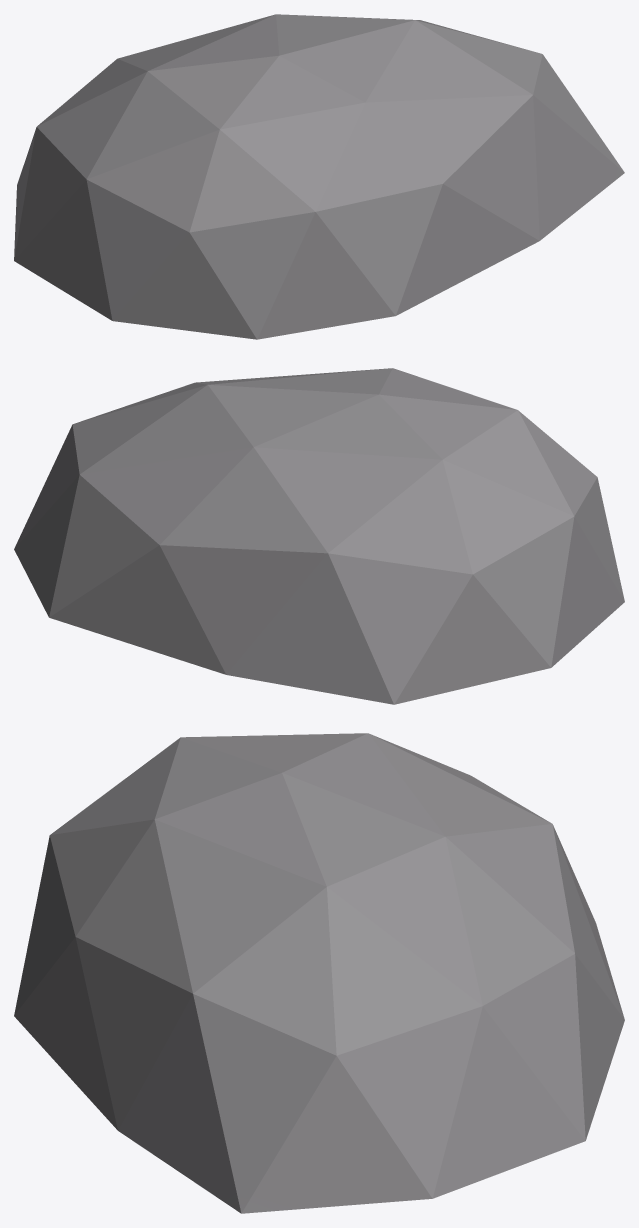
Rendered from Rock_Round_s_02.fbx.
3 renders of one model, top to bottom at view 1: azimuth 30°, elevation 25°; view 2: azimuth 150°, elevation 25°; view 3: azimuth 270°, elevation 25°, orthographic. The views are drawn at different scales.
Visible parts, largest first — view 1: Rock_Round_s_02; view 2: Rock_Round_s_02; view 3: Rock_Round_s_02.
Part boxes in pixels (x1,y1,x2,y2): Rock_Round_s_02: [14, 14, 624, 339]; Rock_Round_s_02: [14, 368, 624, 704]; Rock_Round_s_02: [14, 733, 624, 1213].
Size of the model in its own units: 51.59 by 16.81 by 39.14.
